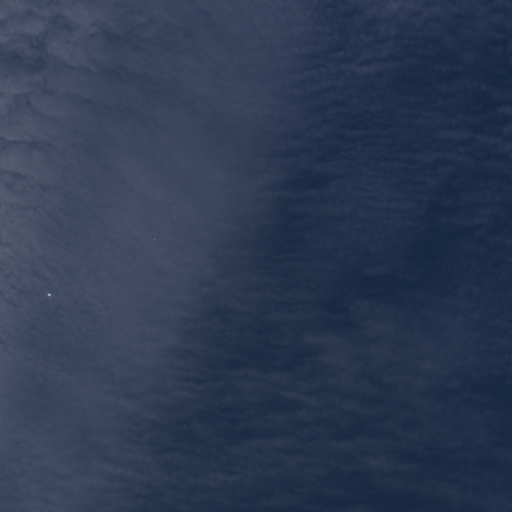Iceberg: (47, 293, 50, 296), (154, 238, 155, 240)
